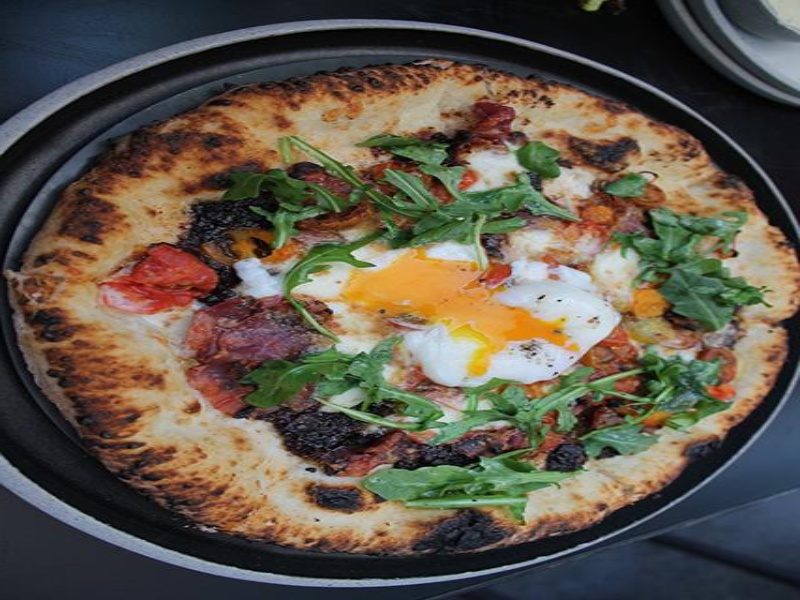oeuf: (443, 287, 587, 375), (342, 246, 488, 325)
